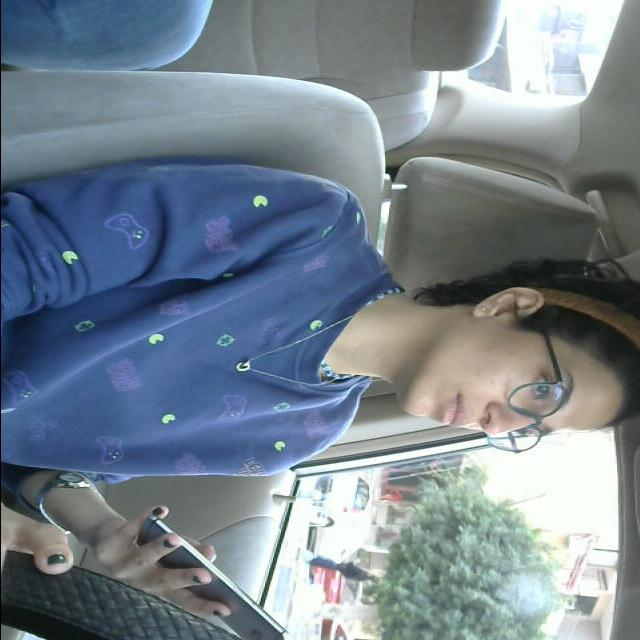mobile use: (142, 517, 294, 640)
